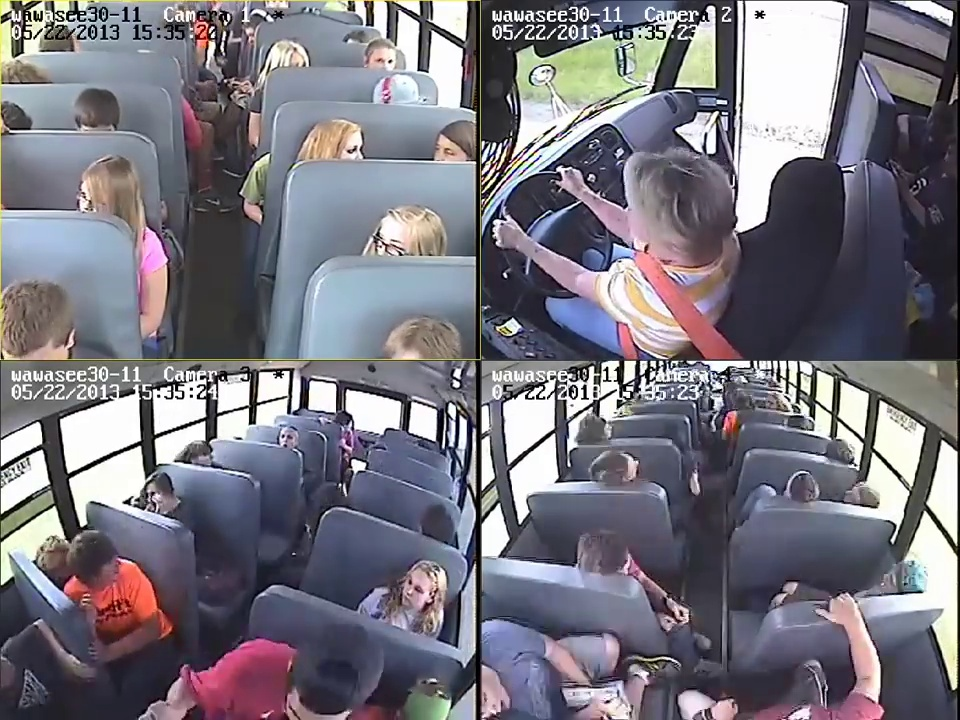face: (376, 222, 411, 254), (400, 576, 434, 607), (435, 133, 468, 163), (338, 131, 365, 157), (371, 43, 396, 69), (277, 427, 293, 446)
